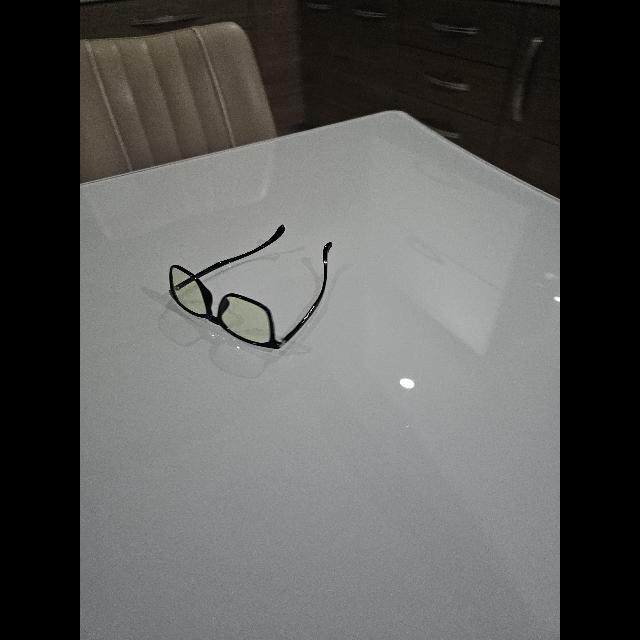glasses: (170, 225, 332, 349)
